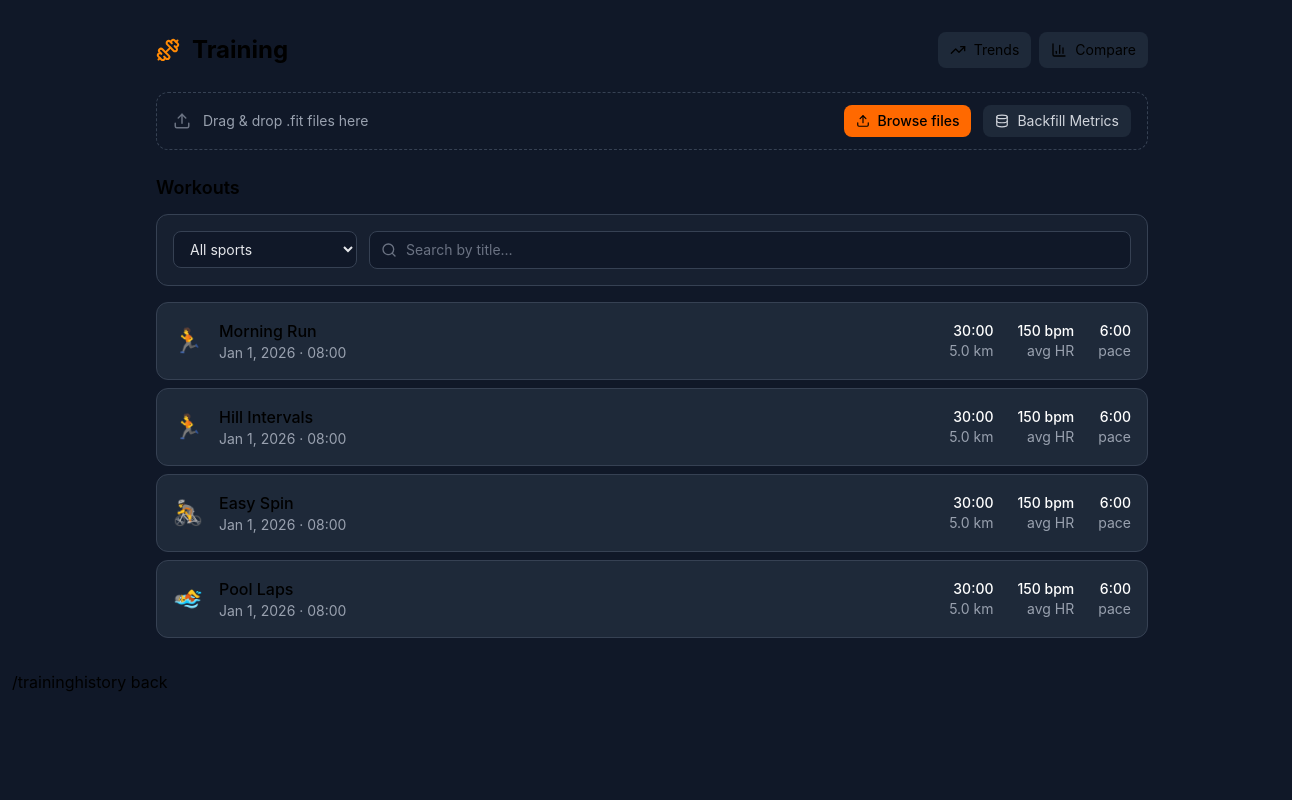
Test: Training filter bar › requests the backend with sport= and resets to page 1 when a sport is picked
The image size is (1292, 800).
Expected: the text "Morning Run" is shown, [219,321,317,341]
Select "cycling" in the dropdown named "Filter by sport": {"x": 265, "y": 250} [173,231,357,268]
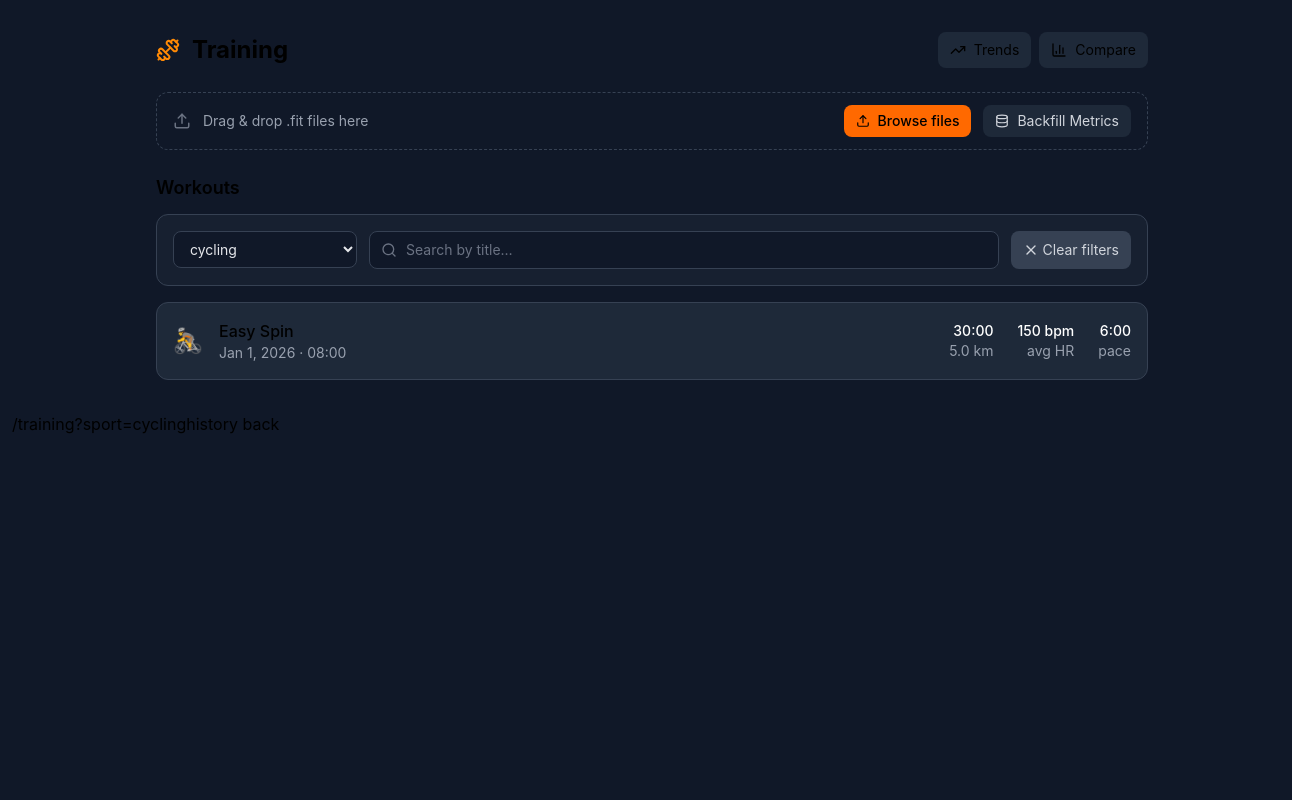
Now the link "Morning Run" is gone
Now the link "Hill Intervals" is gone
Now the link "Pool Laps" is gone
